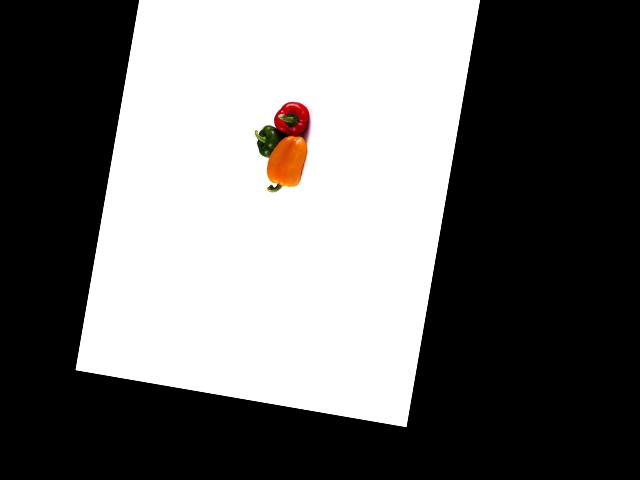bell_pepper: (250, 120, 288, 163)
